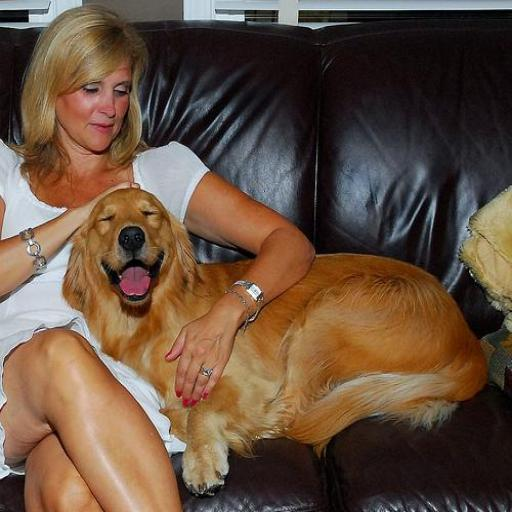dog_face: (76, 192, 198, 330)
